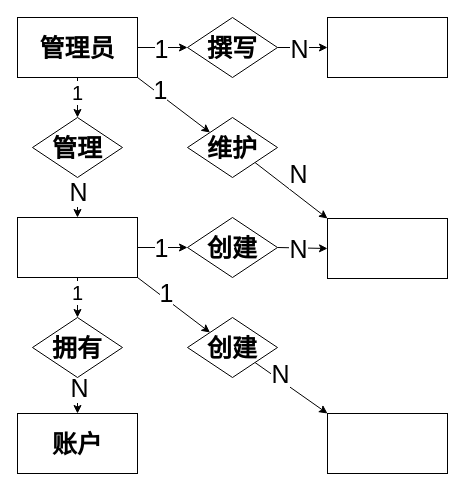
Image size: 465x491. Some labels were removed from this diagram. Each missing label, with the centre of its shape:
会话: the point at 387,443
公告: the point at 387,47
游戏: the point at 387,248
用户: the point at 77,247
